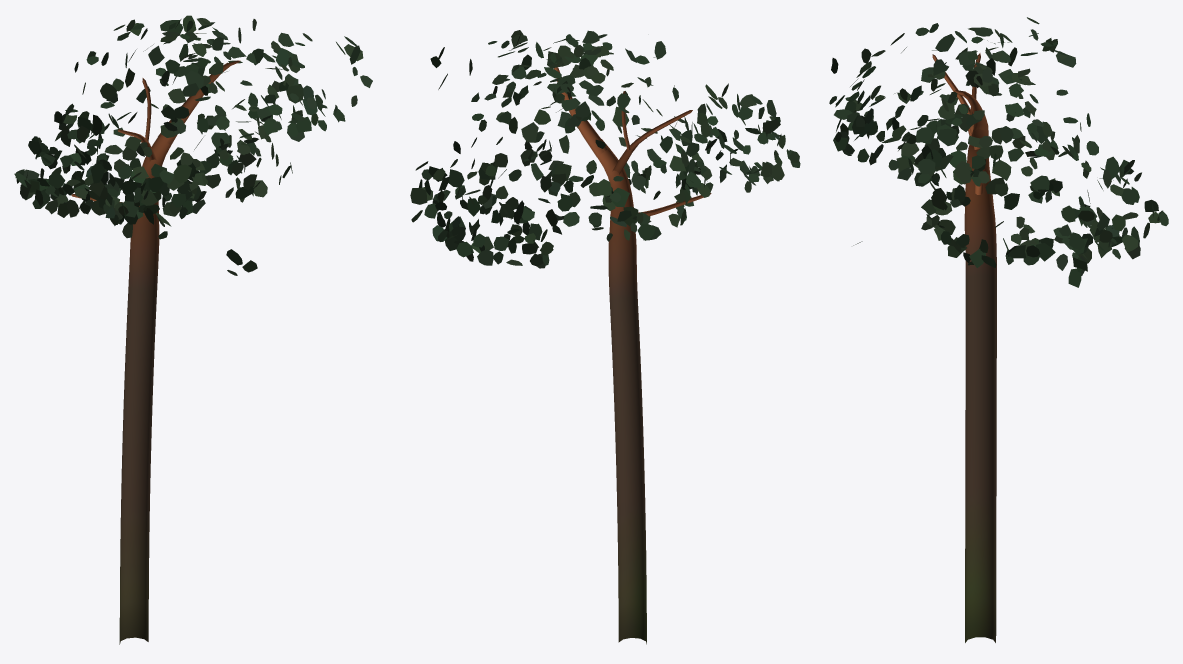
File: SM_TreeFar_pine_1.glb
3 renders of one model, left to right at view 1: azimuth 30°, elevation 25°; view 2: azimuth 150°, elevation 25°; view 3: azimuth 270°, elevation 25°, orthographic. The views are drawn at different scales.
Parts seen in each view (by area): view 1: SM_TreeFar_pine_1; view 2: SM_TreeFar_pine_1; view 3: SM_TreeFar_pine_1.
Part boxes in pixels (bbox=[...]): SM_TreeFar_pine_1: bbox=[14, 15, 372, 644]; SM_TreeFar_pine_1: bbox=[410, 30, 800, 644]; SM_TreeFar_pine_1: bbox=[829, 17, 1168, 642].
Size of the model in its own units: 10.65 by 17.73 by 8.52.
